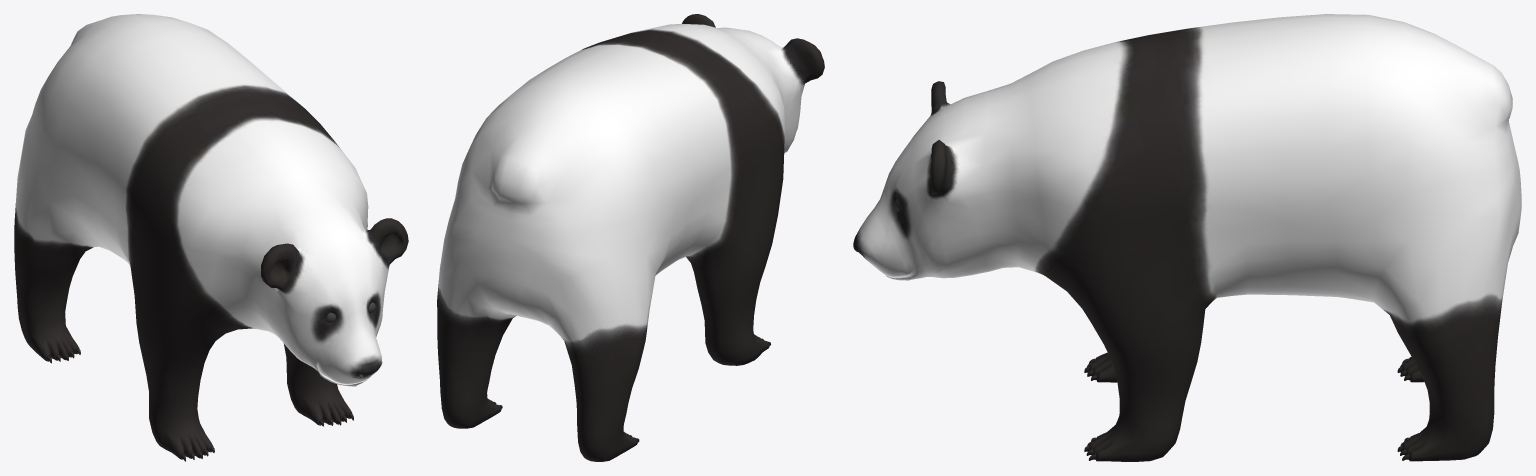
Rendered from panda-gigante.glb.
3 renders of one model, left to right at view 1: azimuth 30°, elevation 25°; view 2: azimuth 150°, elevation 25°; view 3: azimuth 270°, elevation 25°, orthographic. The views are drawn at different scales.
Parts seen in each view (by area): view 1: Object_2; view 2: Object_2; view 3: Object_2.
Part boxes in pixels (left/top/right/bottom): Object_2: left=14, top=14, right=408, bottom=461; Object_2: left=437, top=14, right=824, bottom=461; Object_2: left=853, top=14, right=1521, bottom=461.
Bounding box in the file's own units: 3.12 × 4.85 × 7.59.
2 materials, 1 textured.
